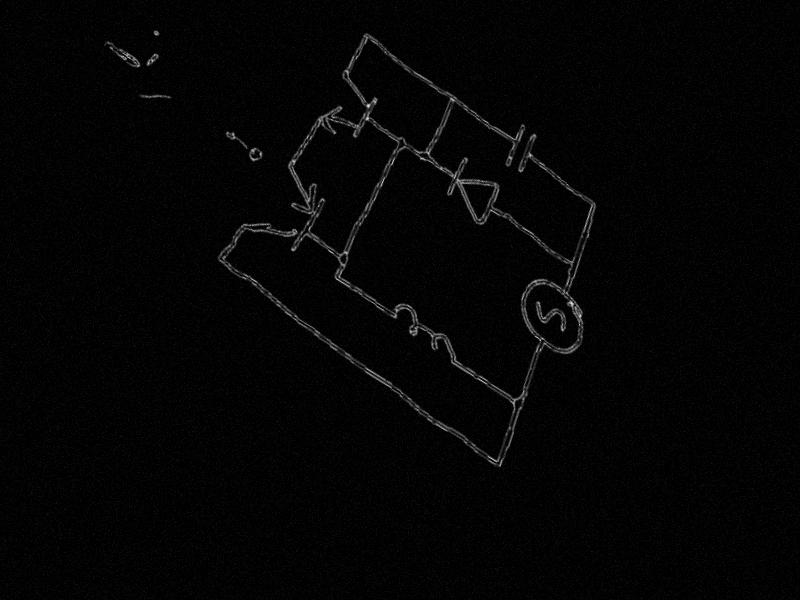capacitor: (490, 113, 556, 187)
diode: (426, 146, 521, 240)
inductor: (374, 289, 477, 373)
signal: (499, 259, 606, 377)
